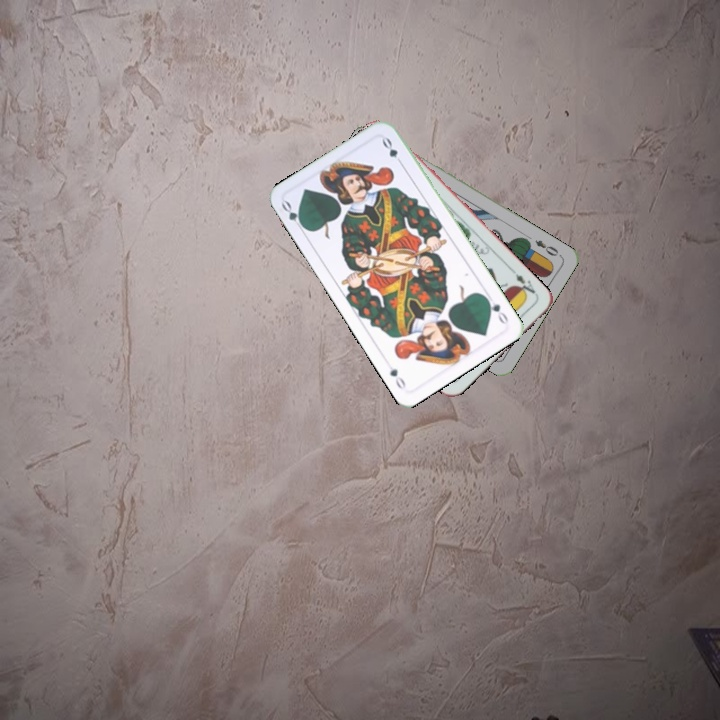EA: (508, 266, 540, 300)
EO: (531, 236, 564, 259)
GO: (277, 197, 309, 234), (481, 293, 511, 327)
